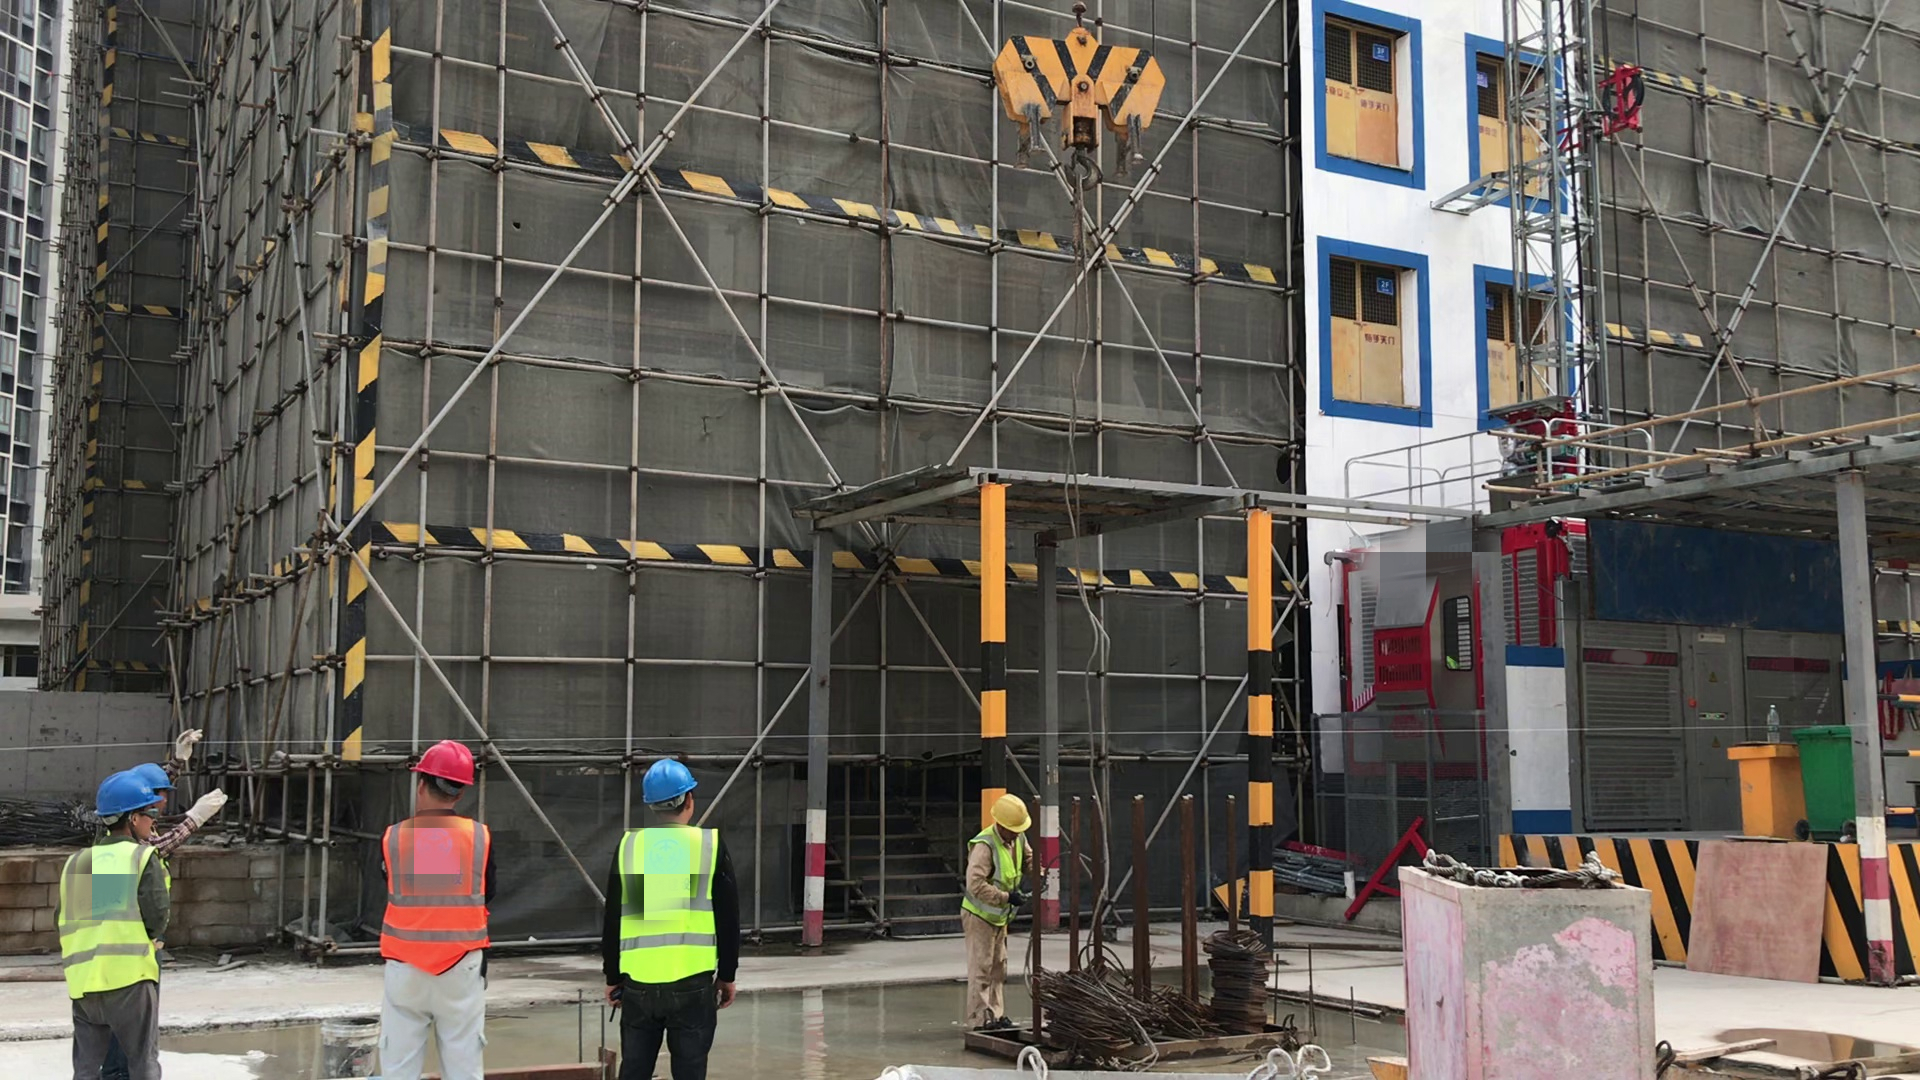ebox: (1723, 737, 1800, 841)
helmet: (409, 739, 474, 786), (95, 772, 162, 815), (640, 760, 696, 805), (992, 794, 1030, 833), (132, 762, 170, 789)
hook: (994, 10, 1166, 191)
person: (375, 741, 492, 1080), (611, 758, 731, 1080), (59, 775, 167, 1080), (967, 793, 1032, 1031)
vest: (382, 823, 490, 970), (625, 824, 723, 985), (56, 851, 159, 992), (978, 831, 1019, 918)
